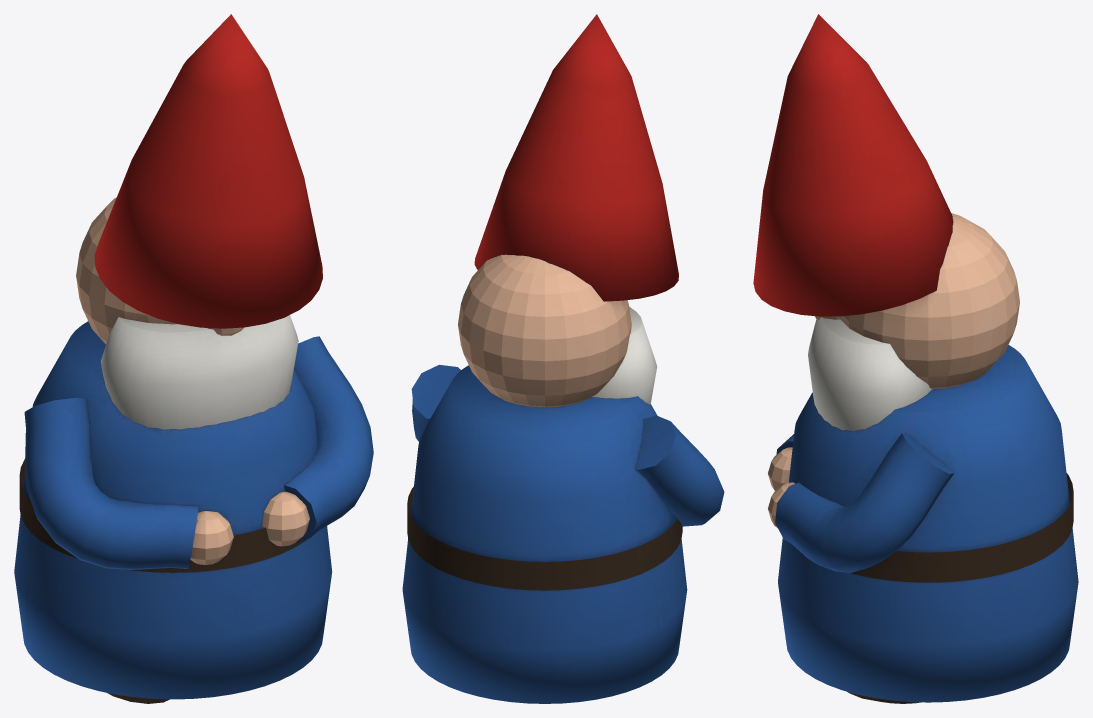
The model's file is classic.glb.
3 renders of one model, left to right at view 1: azimuth 30°, elevation 25°; view 2: azimuth 150°, elevation 25°; view 3: azimuth 270°, elevation 25°, orthographic. The views are drawn at different scales.
Visible parts, largest first — view 1: gnome_coat, gnome_hat, gnome_beard, gnome_skin, gnome_boots; view 2: gnome_coat, gnome_hat, gnome_skin, gnome_boots, gnome_beard; view 3: gnome_coat, gnome_hat, gnome_skin, gnome_beard, gnome_boots.
Boxes of the visible parts, box(x1,y1,x2,y2) form: gnome_coat: box(14, 321, 373, 699); gnome_hat: box(94, 14, 322, 328); gnome_beard: box(100, 315, 298, 429); gnome_skin: box(76, 197, 309, 564); gnome_boots: box(19, 459, 307, 703); gnome_coat: box(402, 364, 724, 703); gnome_hat: box(474, 14, 678, 301); gnome_skin: box(458, 254, 631, 407); gnome_boots: box(407, 486, 682, 590); gnome_beard: box(592, 307, 657, 404); gnome_coat: box(775, 345, 1078, 702); gnome_hat: box(753, 14, 953, 316); gnome_skin: box(768, 213, 1019, 528); gnome_beard: box(808, 317, 932, 431); gnome_boots: box(847, 473, 1073, 703).
Size of the model in its own units: 0.2154 by 0.4356 by 0.1946.
5 materials, 5 textured.
